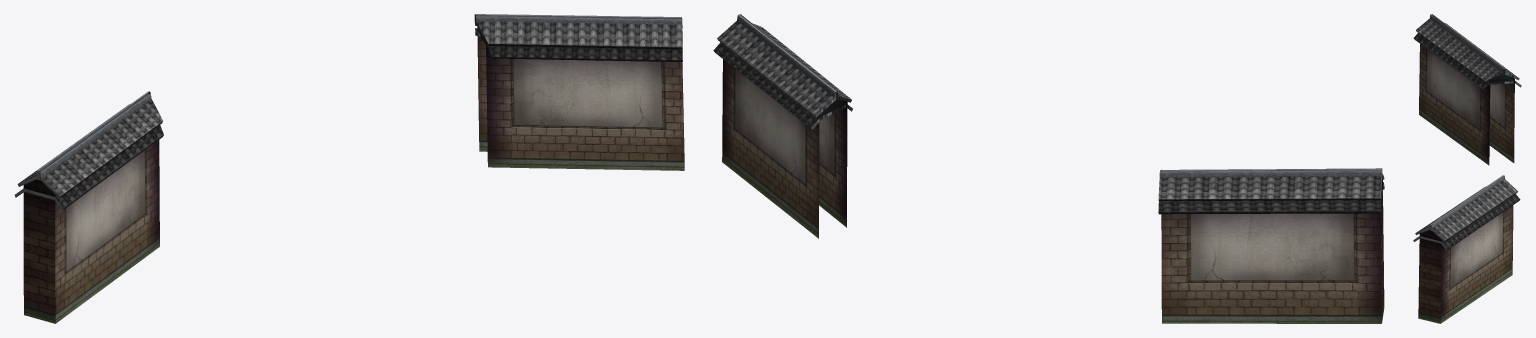
Rendered from Gate Walls.FBX.
3 views of the same model, side by side, from view 1: azimuth 30°, elevation 25°; view 2: azimuth 150°, elevation 25°; view 3: azimuth 270°, elevation 25° (orthographic). The views are drawn at different scales.
Visible parts, largest first — view 1: 355c6e58.obj, 34cdfff0.obj; view 2: 34cdfff0.obj, 355c6e58.obj; view 3: 34cdfff0.obj, 355c6e58.obj.
Part boxes in pixels (x1,y1,x2,y2): 355c6e58.obj: (474,14,684,170); 34cdfff0.obj: (14,91,163,323); 34cdfff0.obj: (1158,168,1384,323); 355c6e58.obj: (713,14,852,238); 34cdfff0.obj: (1413,14,1521,165); 355c6e58.obj: (1413,175,1520,323).
Bounding box in the file's own units: 0.00283 × 0.000599 × 0.000601.
Materials: 2 (2 with a texture image).
